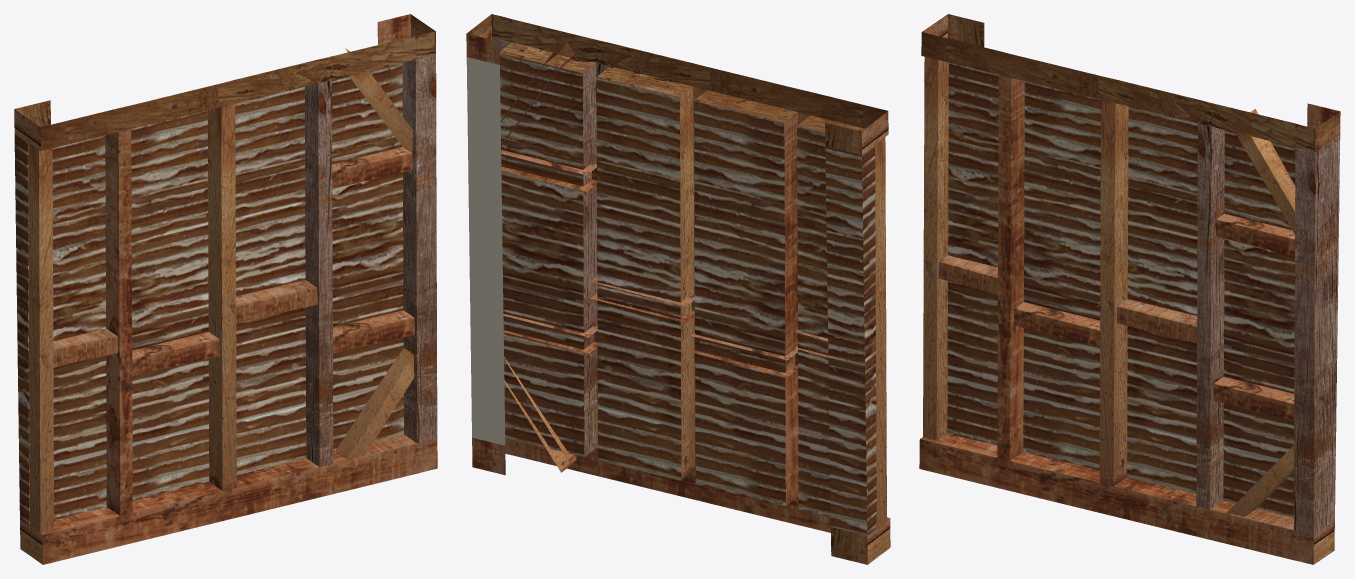
The model's file is ST_Wall3.fbx.
The picture shows the model from 3 angles, left to right: view 1: azimuth 30°, elevation 25°; view 2: azimuth 150°, elevation 25°; view 3: azimuth 330°, elevation 25°; orthographic projection.
Visible parts, largest first — view 1: SP_Wall2; view 2: SP_Wall2; view 3: SP_Wall2.
Part boxes in pixels (bbox=[...]): SP_Wall2: bbox=[14, 14, 437, 564]; SP_Wall2: bbox=[466, 14, 890, 564]; SP_Wall2: bbox=[919, 14, 1340, 564].
Bounding box in the file's own units: 354 × 375 × 44.66.
